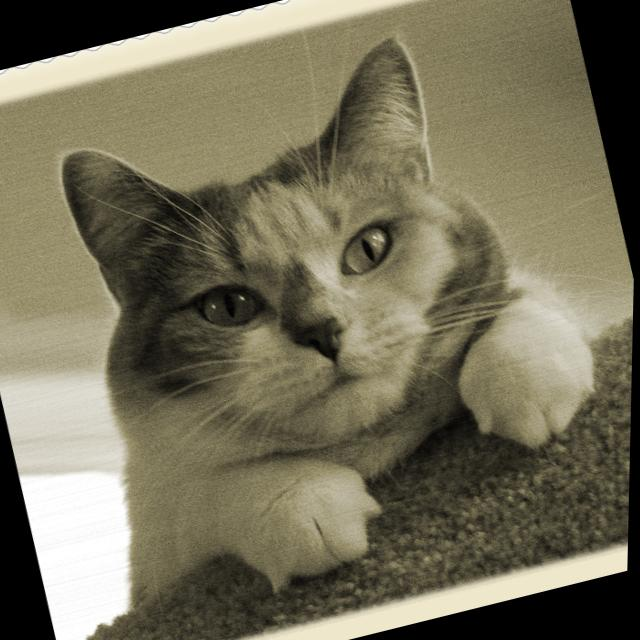animals: (57, 36, 471, 406)
